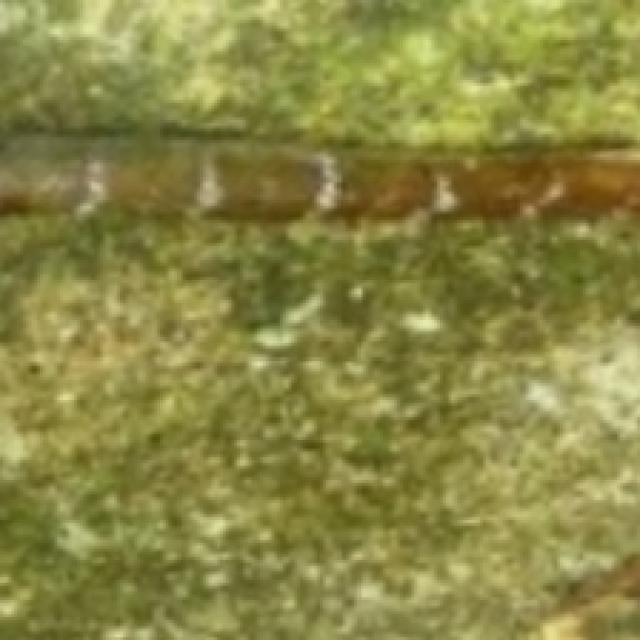reddish rat snake: (0, 137, 637, 220)
